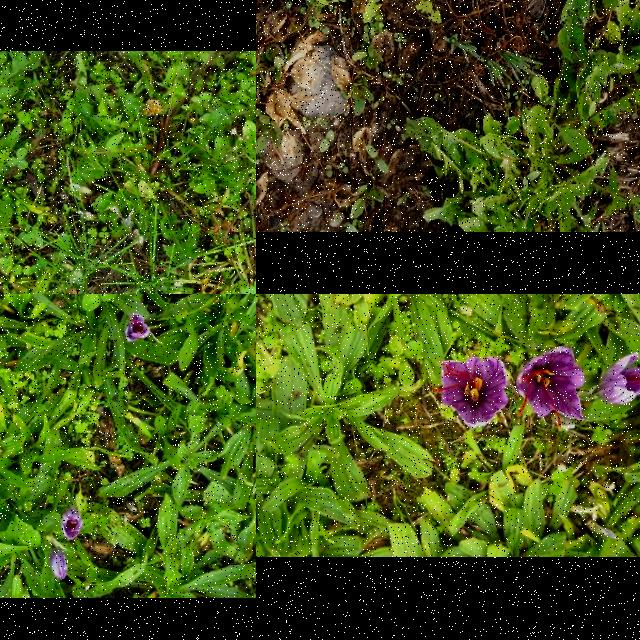flower: (519, 347, 587, 429), (434, 358, 508, 427), (596, 355, 640, 405), (62, 509, 82, 543), (126, 314, 150, 341), (52, 551, 70, 585)
